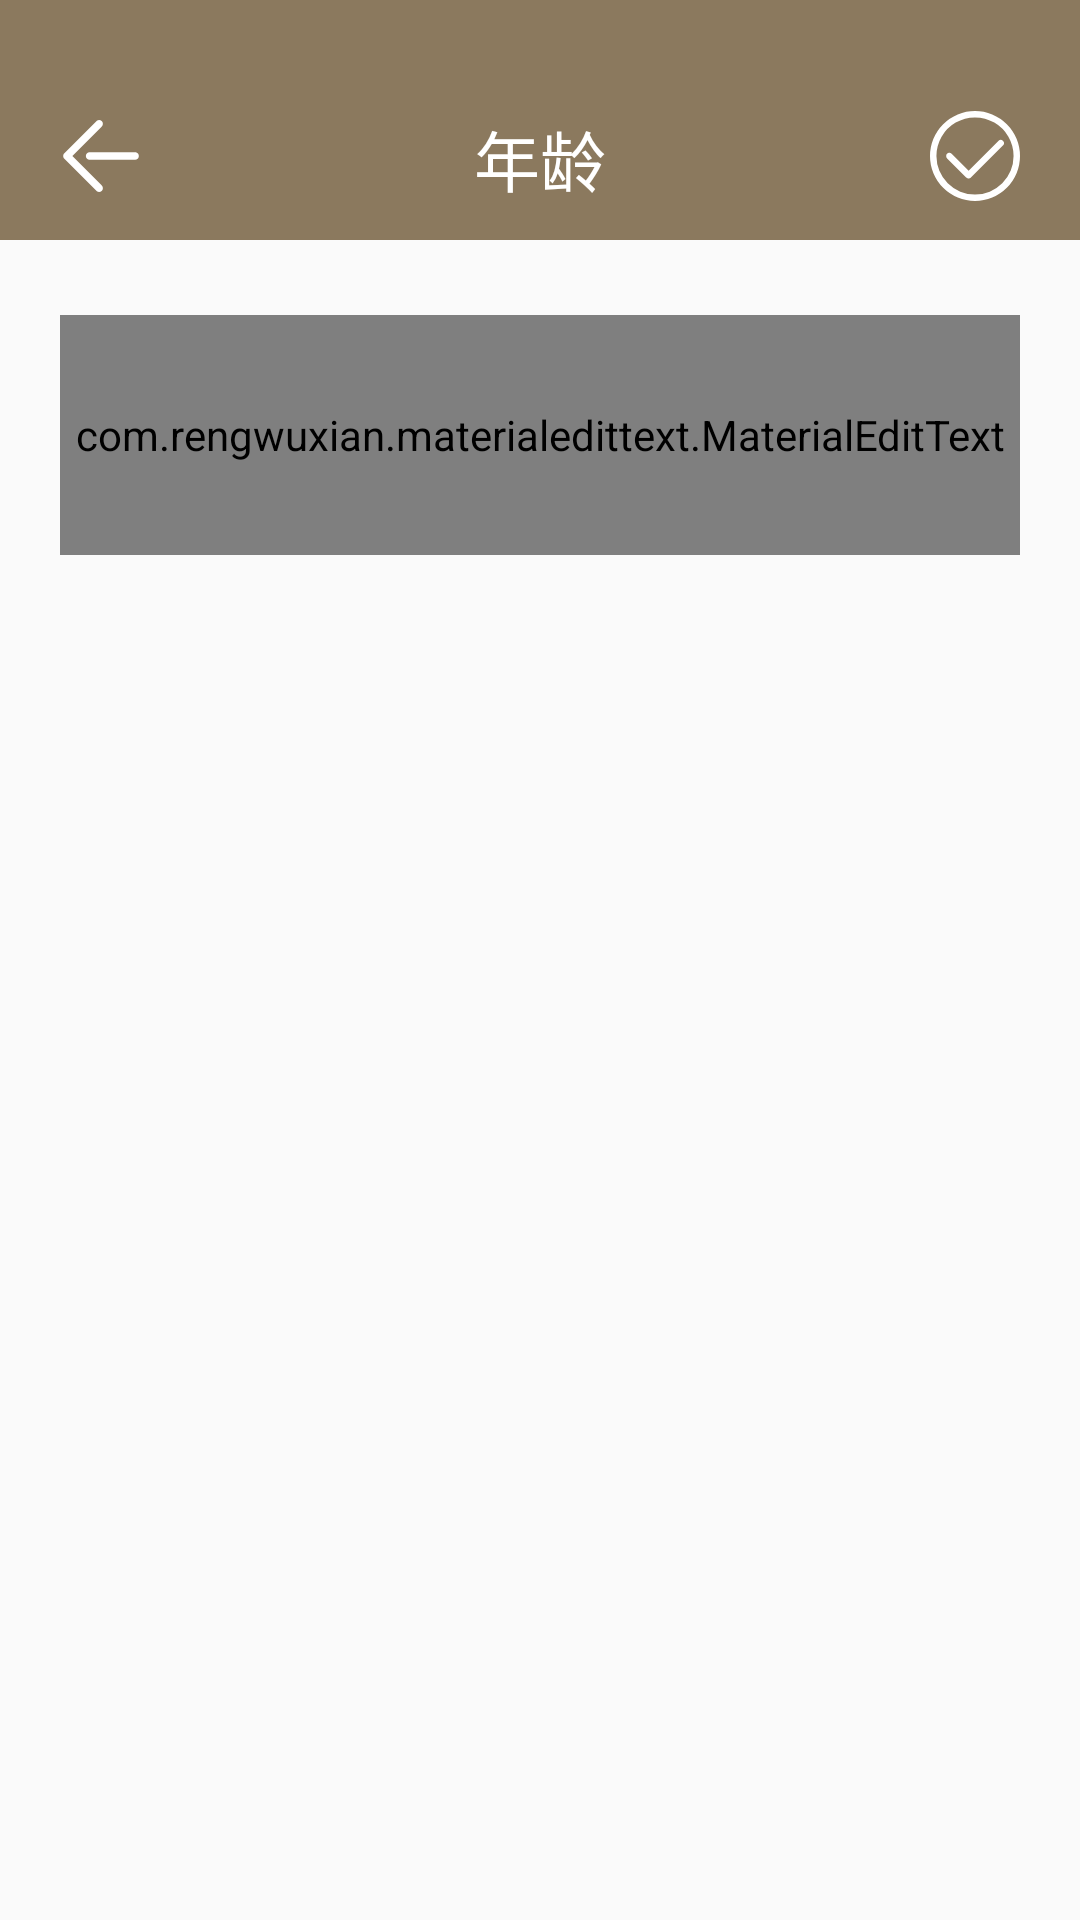

Icon bounding boxes for this 1080 × 1920 phone screenshot, format bbox=[x1, y1, x2, y2]:
back: bbox=[63, 120, 139, 192]
save: bbox=[930, 111, 1020, 201]
